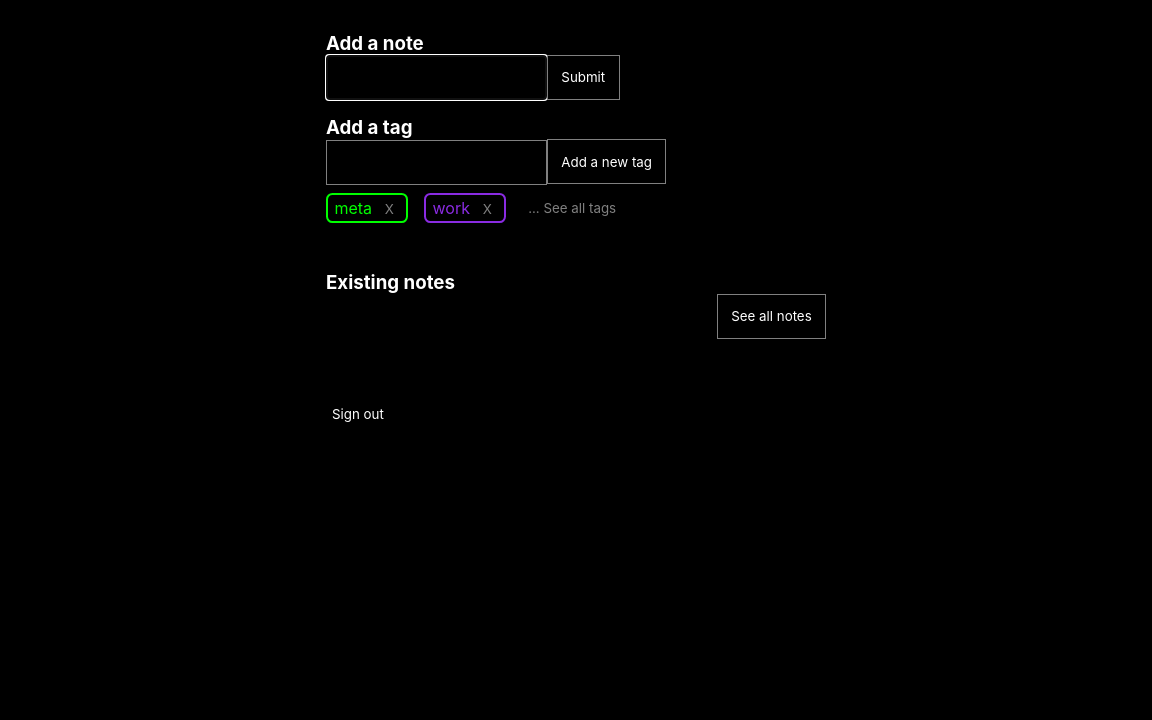
Test case: App › happy tags › deletes a tag after confirming
Expected: the text "meta" is shown, [334,198,372,218]
Click the button with test id "tag-1-delete": (389, 209) [379,200,400,218]
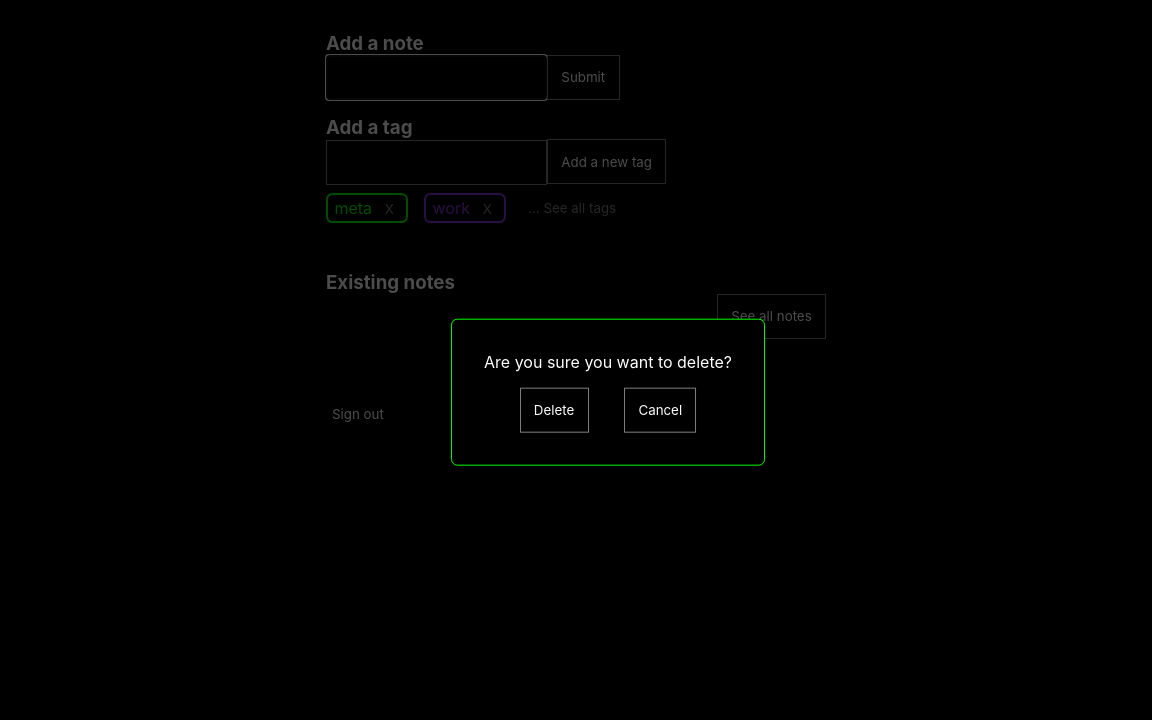
Click the button "Delete": (554, 410) [520,388,588,432]
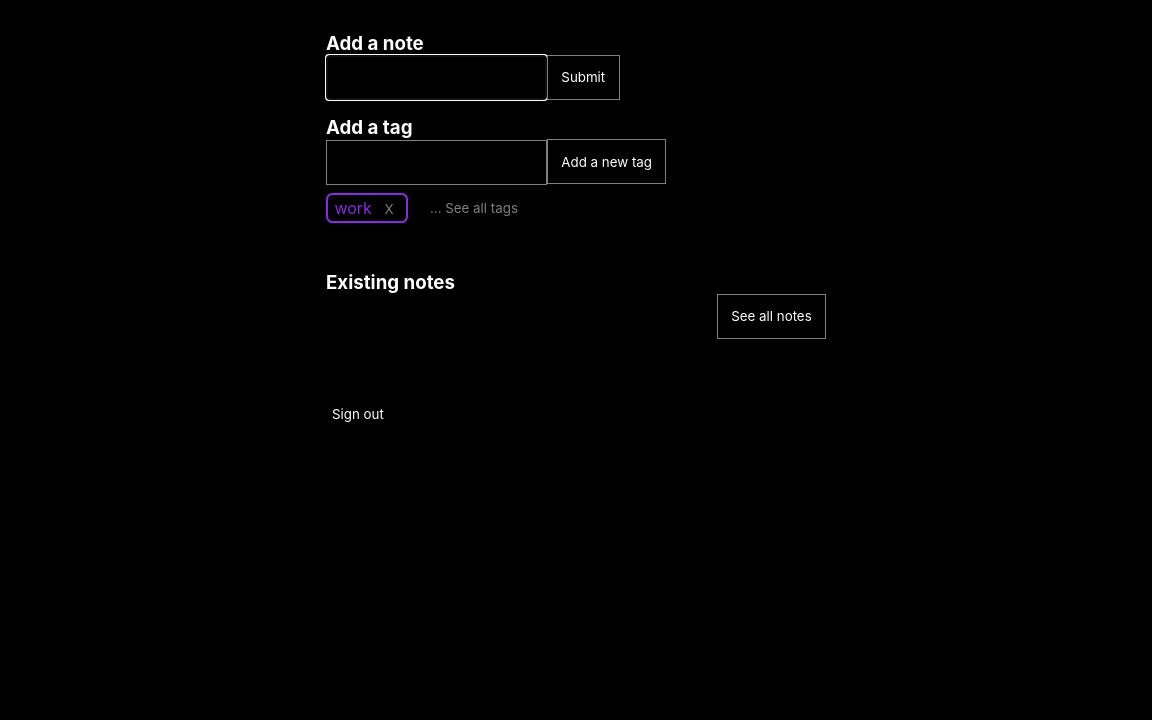
Expected: the text "delete" is gone
